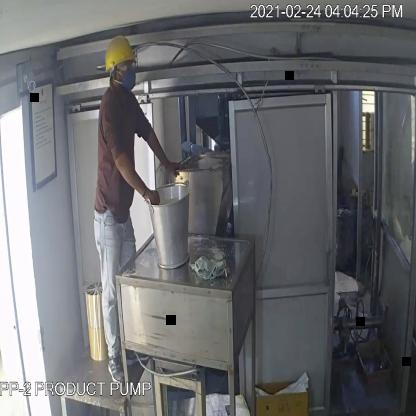helmet: (99, 35, 142, 77)
